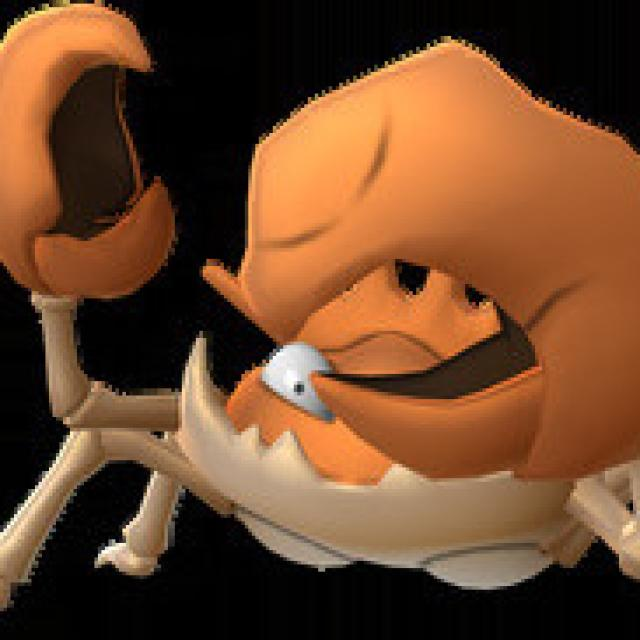Kingler: (12, 183, 639, 559)
